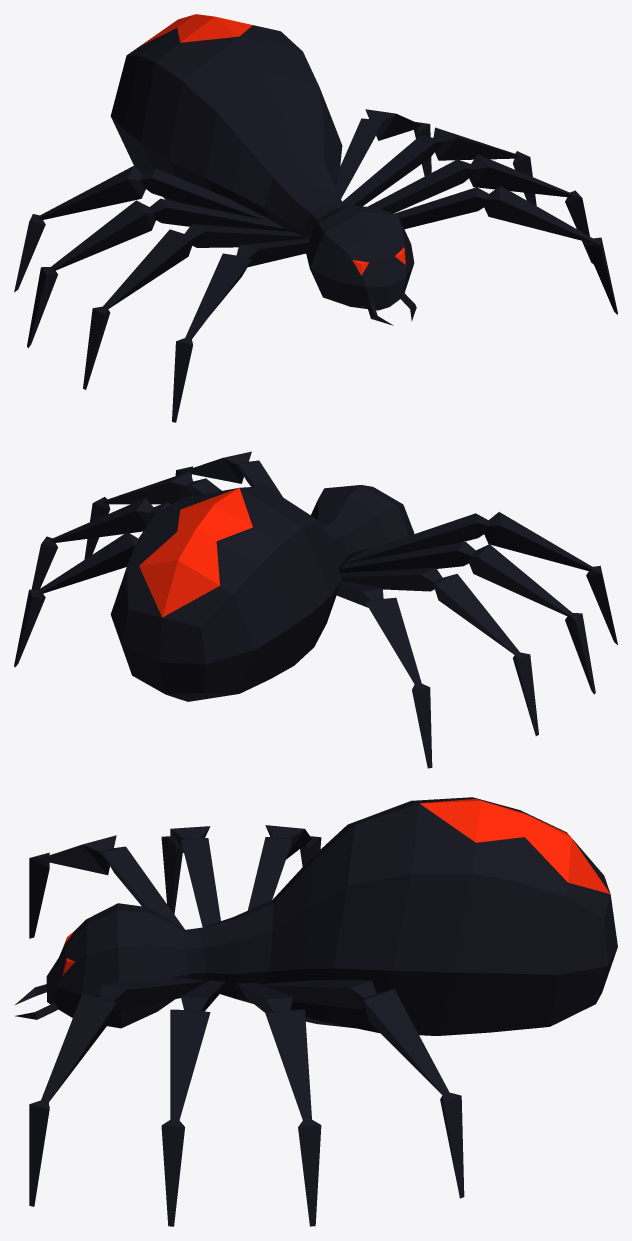
The model's file is spider.fbx.
The picture shows the model from 3 angles, top to bottom: view 1: azimuth 30°, elevation 25°; view 2: azimuth 150°, elevation 25°; view 3: azimuth 270°, elevation 25°; orthographic projection. The views are drawn at different scales.
Parts seen in each view (by area): view 1: Spider 1; view 2: Spider 1; view 3: Spider 1.
Part boxes in pixels (left/top/right/bottom): Spider 1: left=14, top=14, right=617, bottom=422; Spider 1: left=14, top=451, right=617, bottom=768; Spider 1: left=14, top=797, right=617, bottom=1226.
Bounding box in the file's own units: 950 × 389 × 785.
